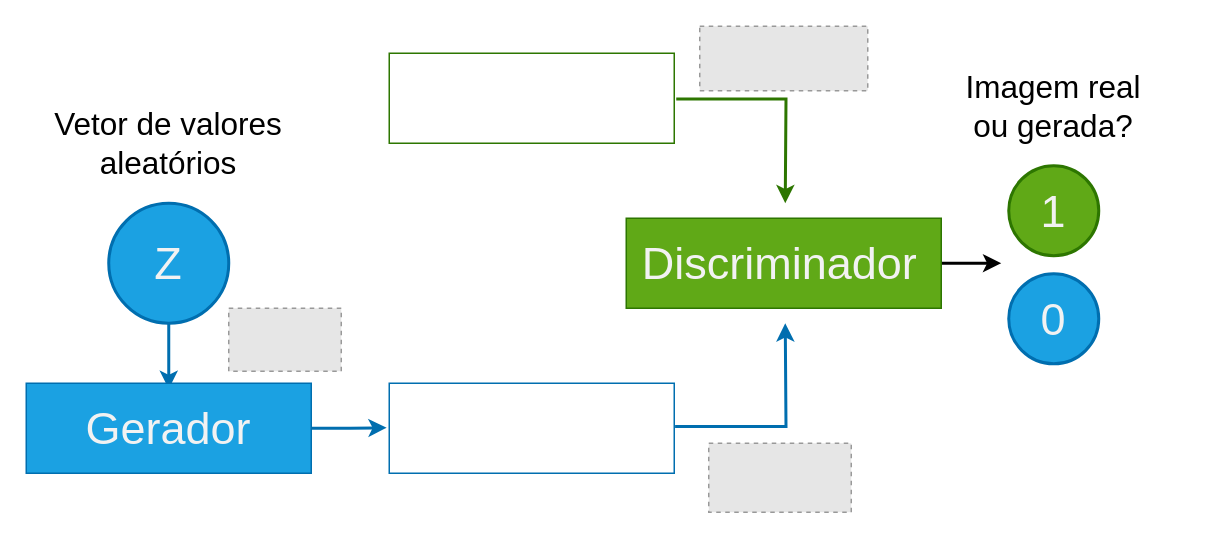
Some shapes in this 1223 by 539 pixel diagram are drawn without their labels. Grey dashed boxes stand in for pictures. The shapes that lost their labels are listed below. From the top down, each one's centre as x and y in pixels, then its label:
(x=531, y=97): Imagens Reais
(x=531, y=427): Imagens Geradas
